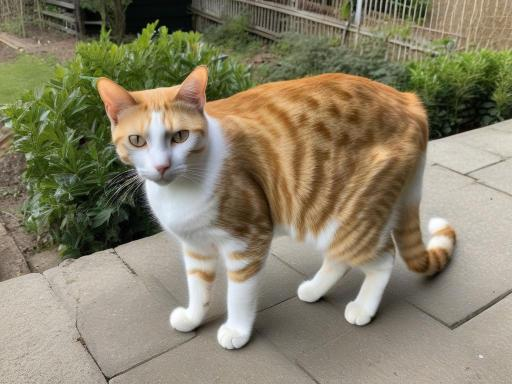cat_standing: (97, 65, 456, 348)
